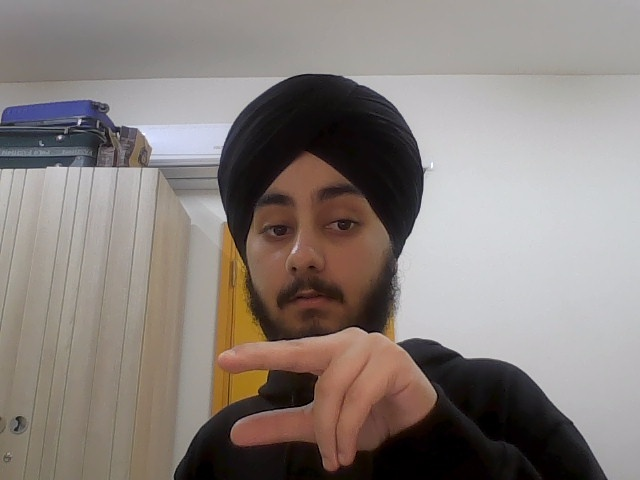No: (216, 324, 441, 472)
